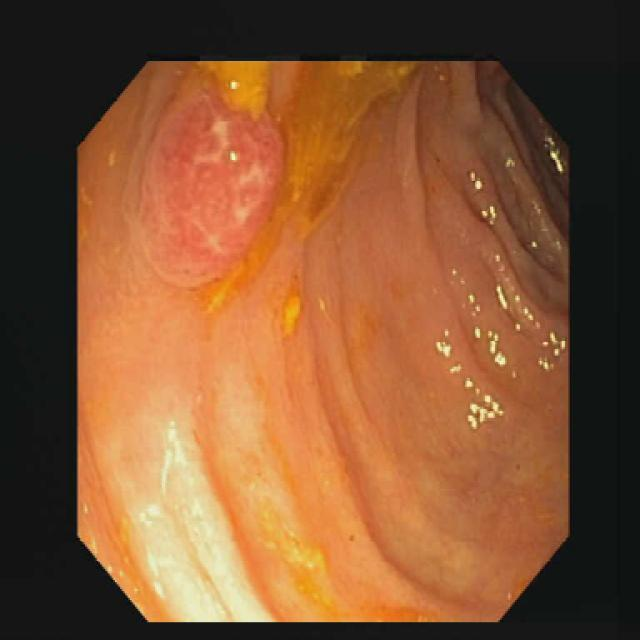tumor: (148, 93, 282, 284)
